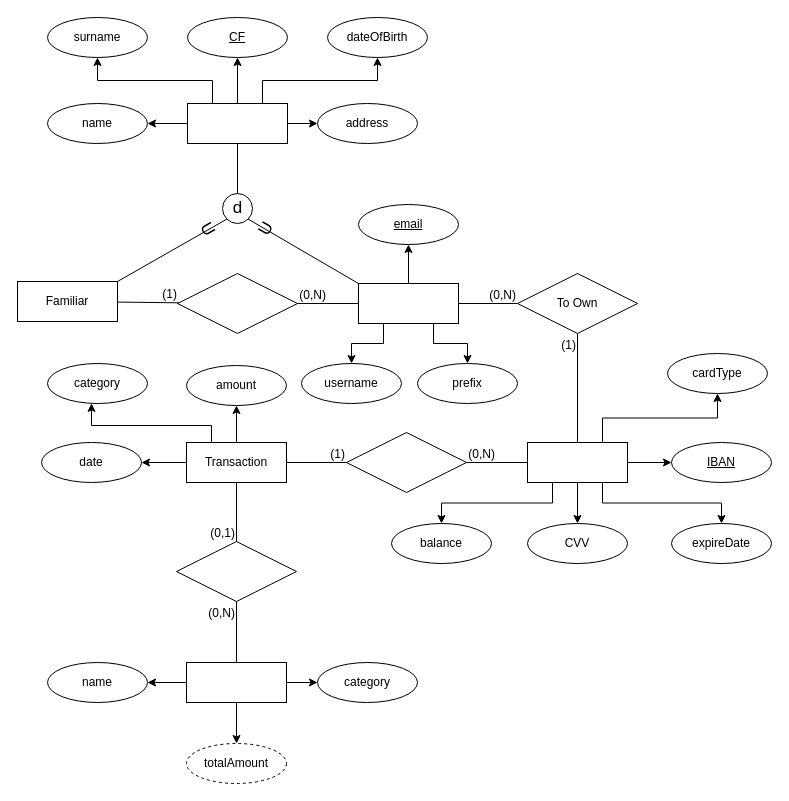
Image size: 789x801. Some labels were removed from this diagram. The shapes that lost their labels are listed below. From the top down, each one's centre as x and y in pixels, then its label:
At (237,123): "Person".
At (237,303): "To Be Related".
At (408,303): "User".
At (406,462): "To Make".
At (577,462): "Card".
At (236,571): "To Be In".
At (236,682): "Wallet".
